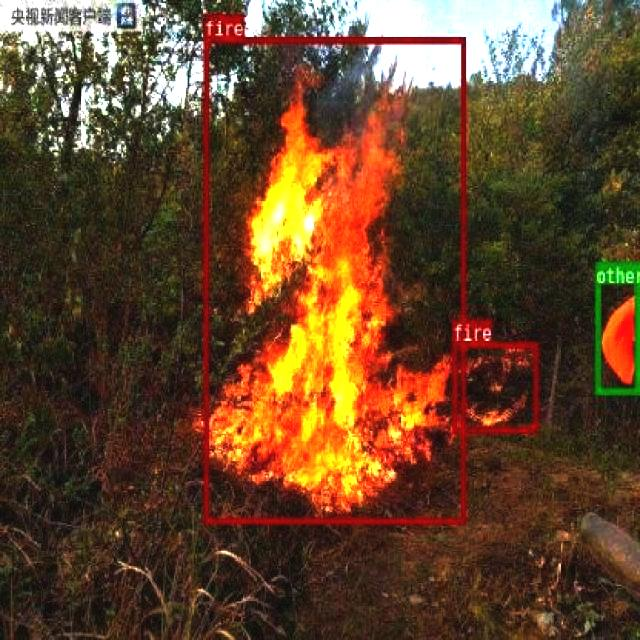fire: (203, 36, 464, 522), (452, 341, 538, 432)
